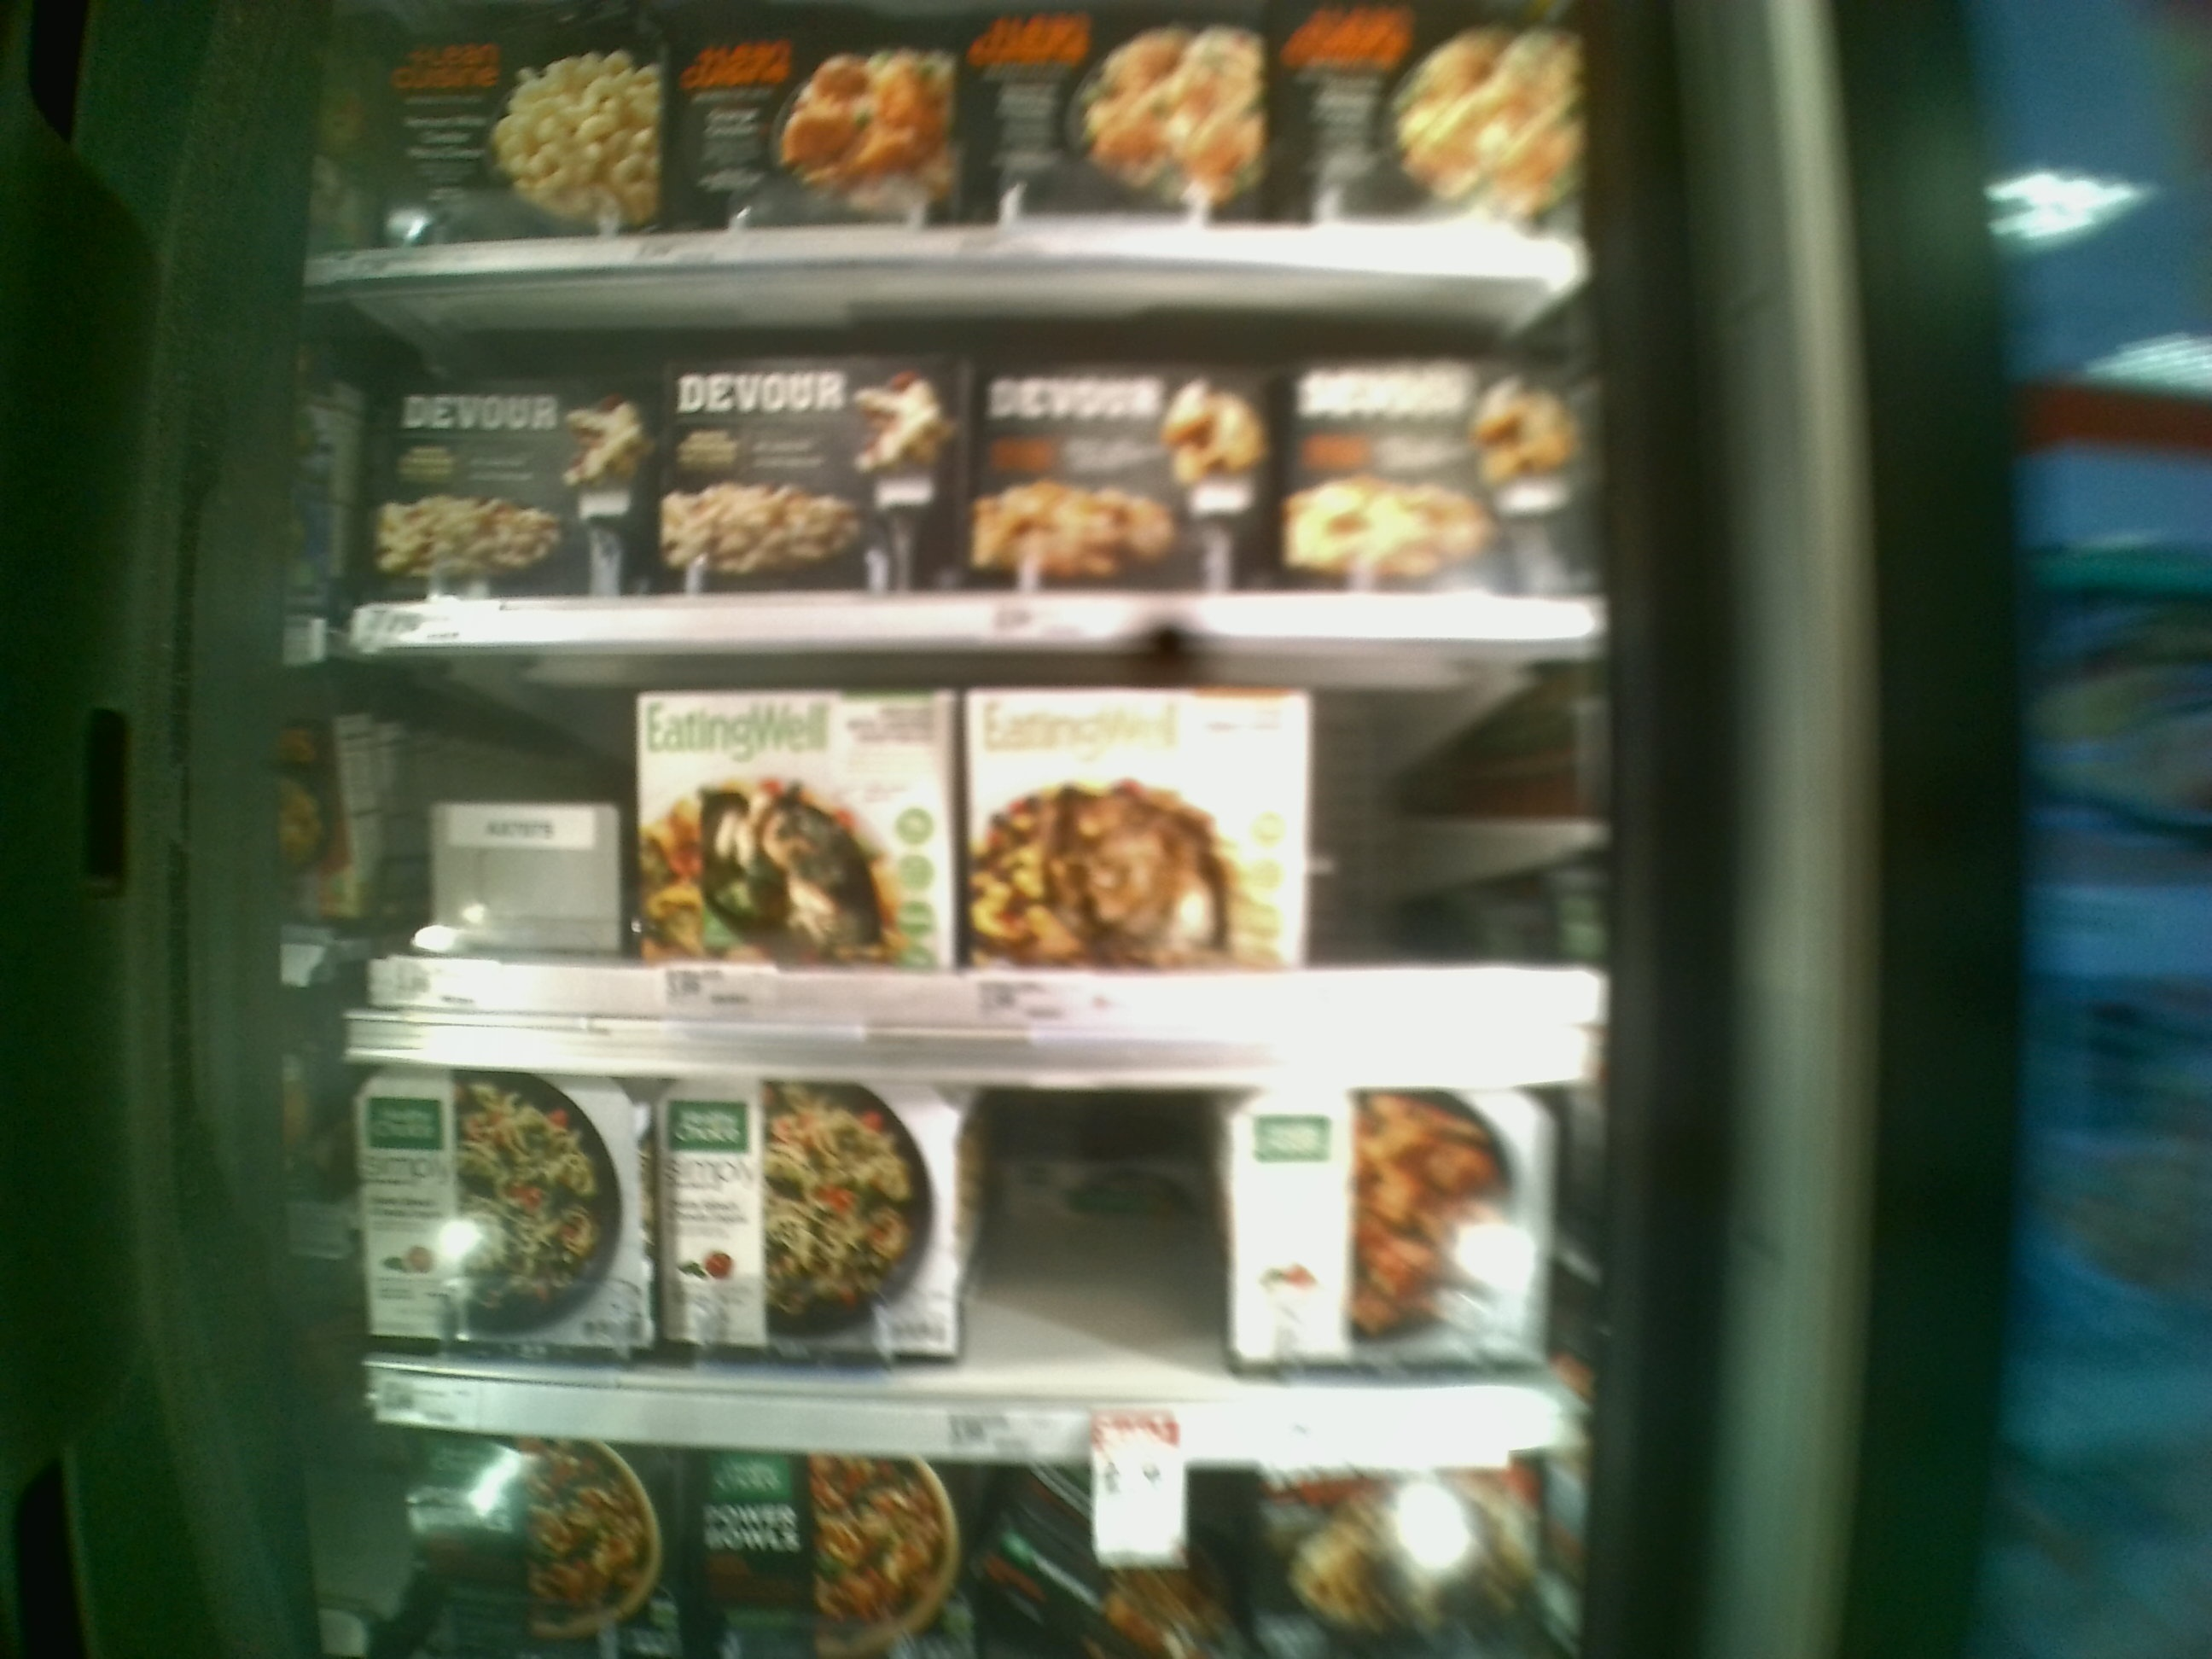shelf: (314, 1030, 1604, 1466), (308, 641, 1616, 1032), (305, 258, 1606, 640)
